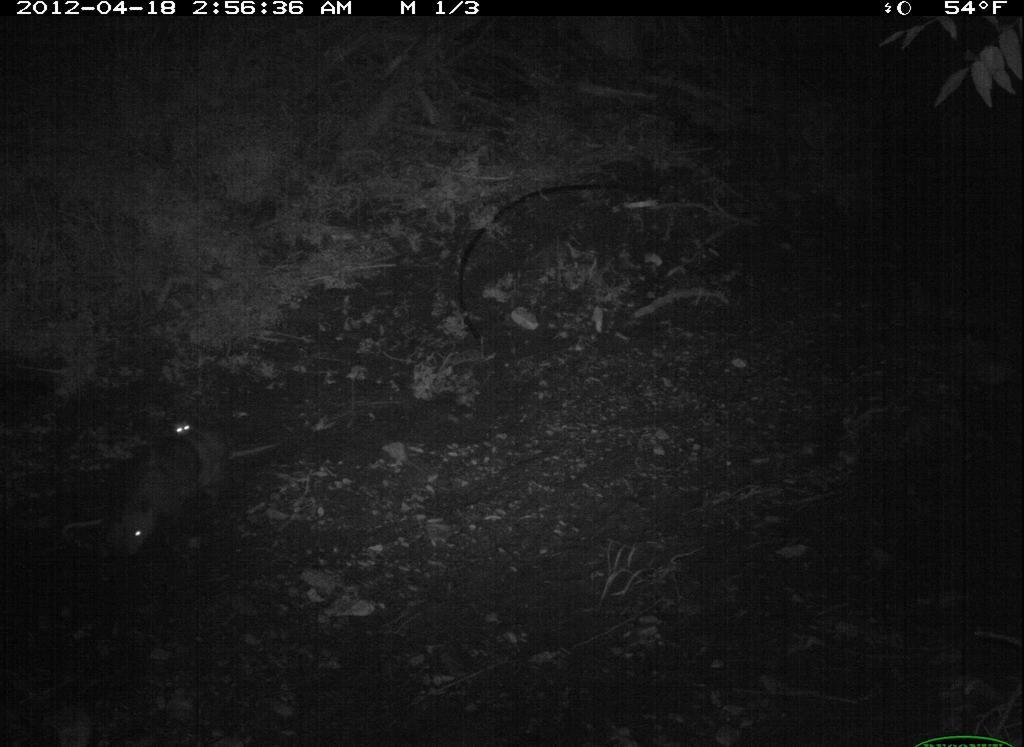opossum: (94, 411, 300, 564), (169, 415, 238, 468)
